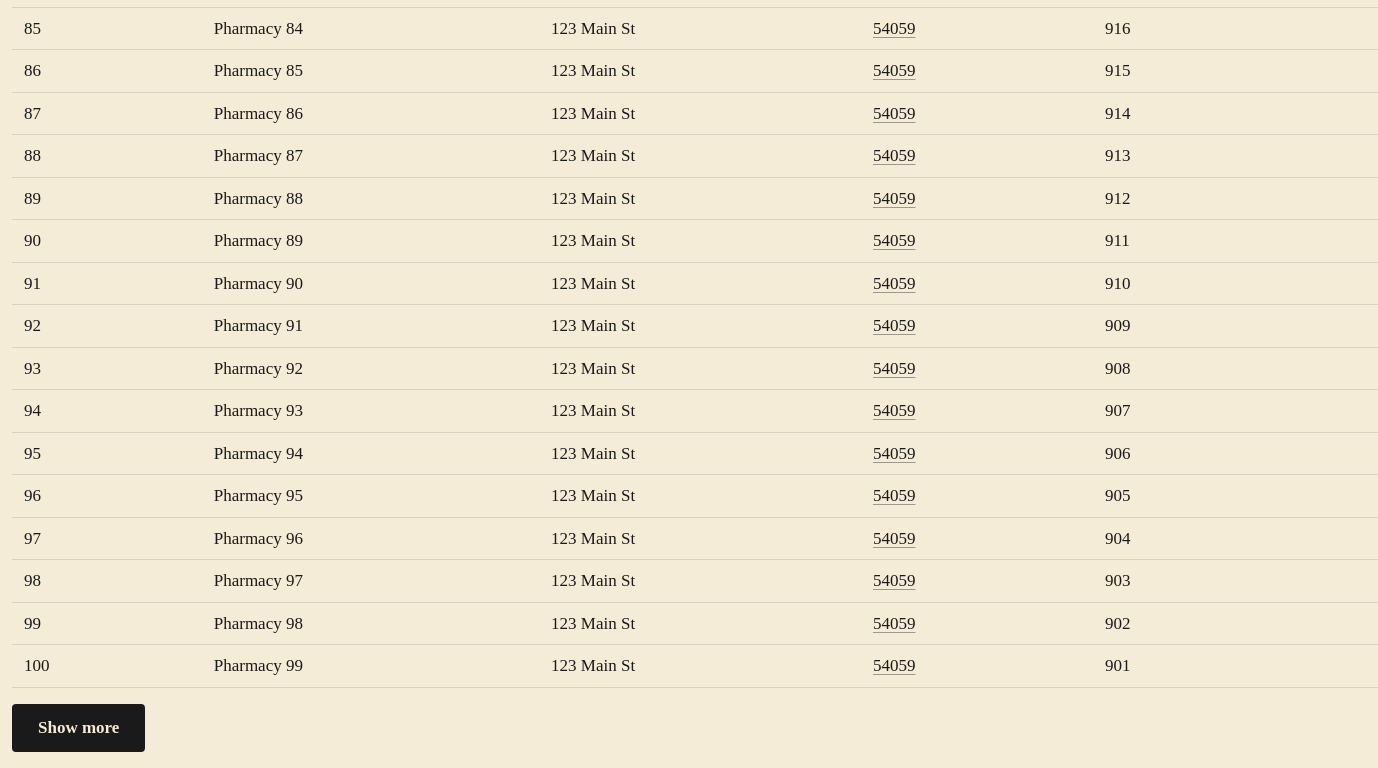
Test: PharmaciesPanel › renders first 100 then adds more on click
(page scrolled)
Click the button "Show more": (79, 728) left=12, top=704, right=145, bottom=752
(page scrolled)
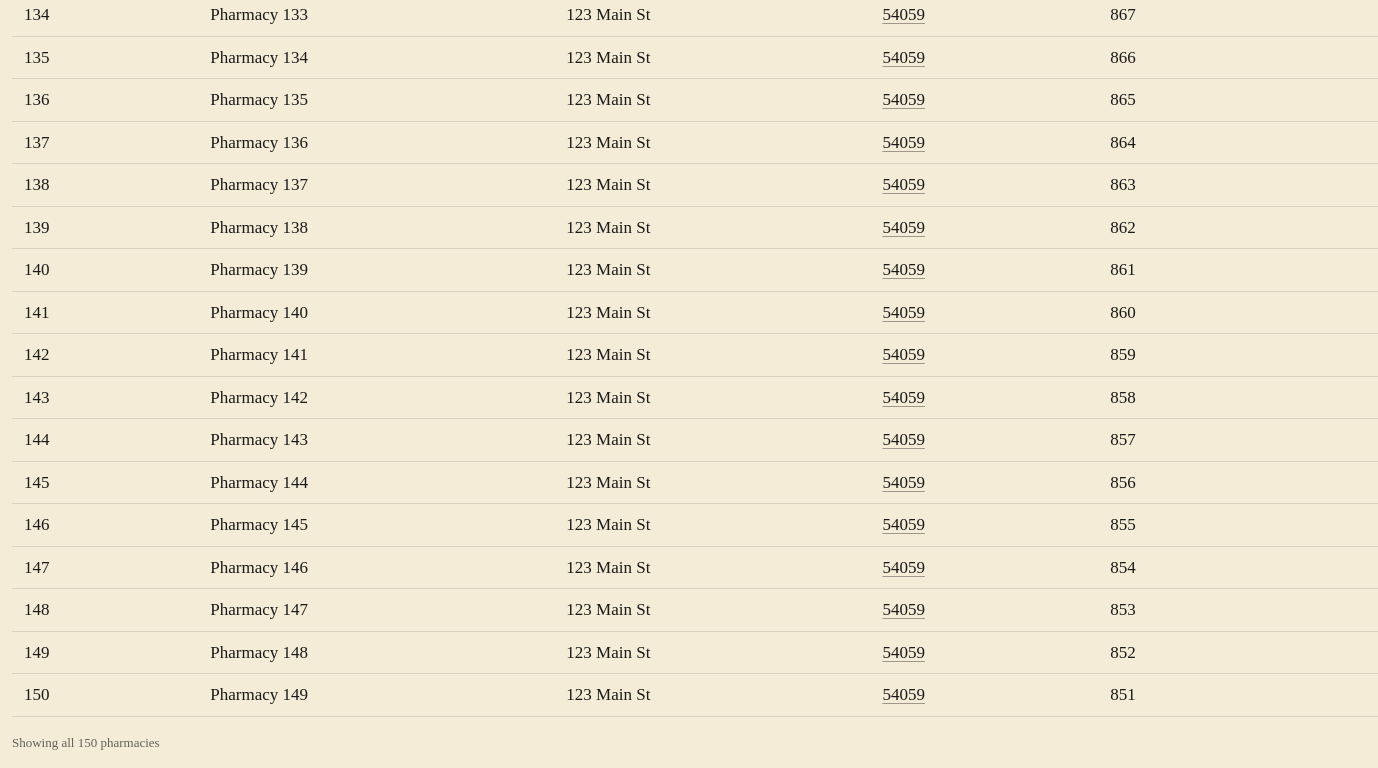
Expected: the text "Showing all 150 pharmacies" is shown, left=12, top=732, right=160, bottom=752
